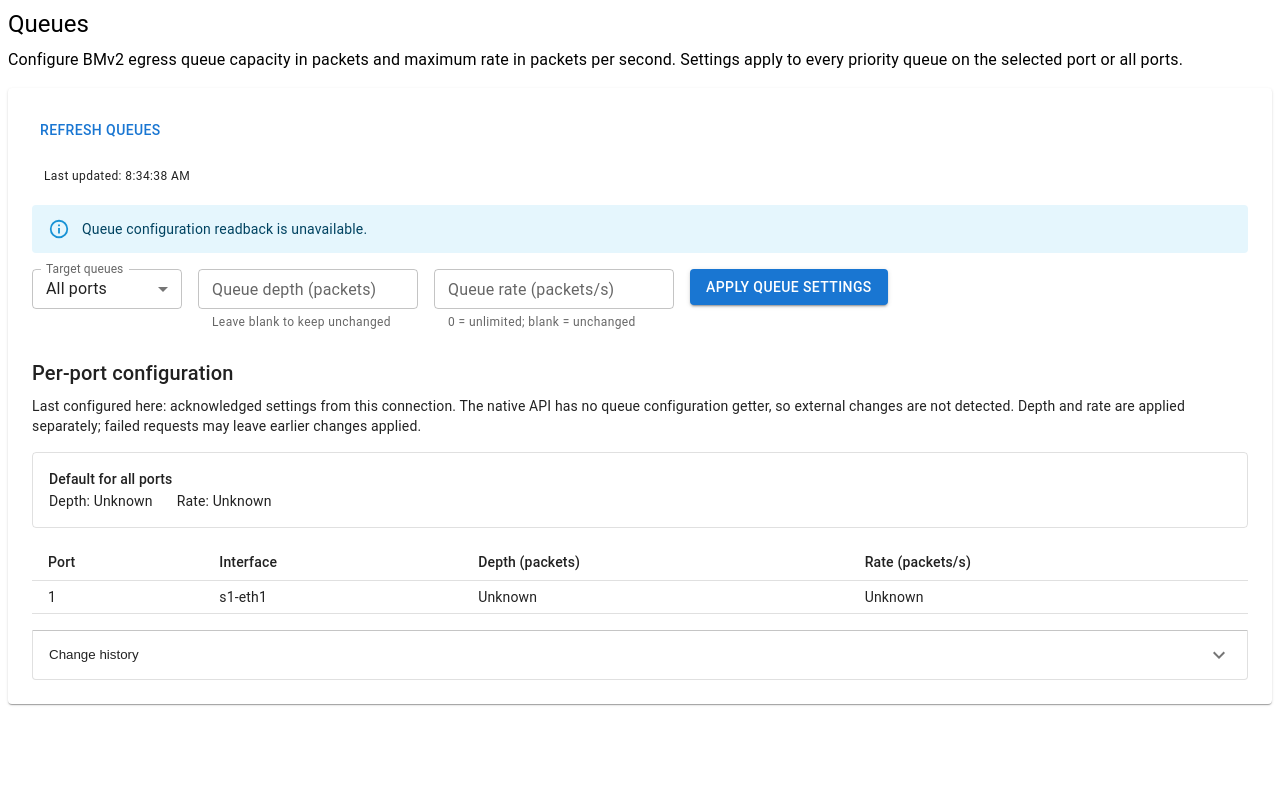
Test: queue controls › rejects invalid settings before making a write request
Expected: the text "Queue configuration readback is unavailable." is shown, [82,221,367,237]
In the field labelled "Queue depth (packets)": coordinates (308, 289) [198,269,418,309], type "0"
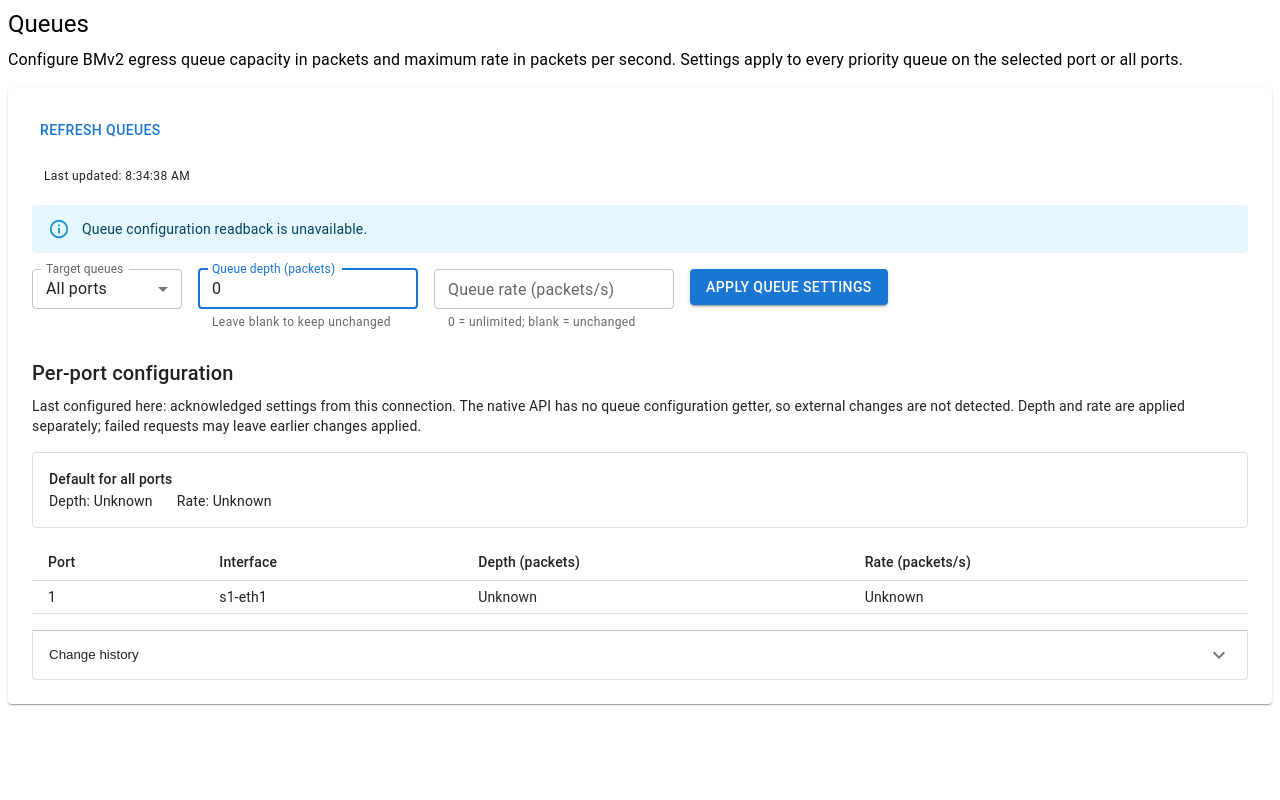
Click the button "Apply queue settings": coordinates (789, 287) [690,269,888,305]
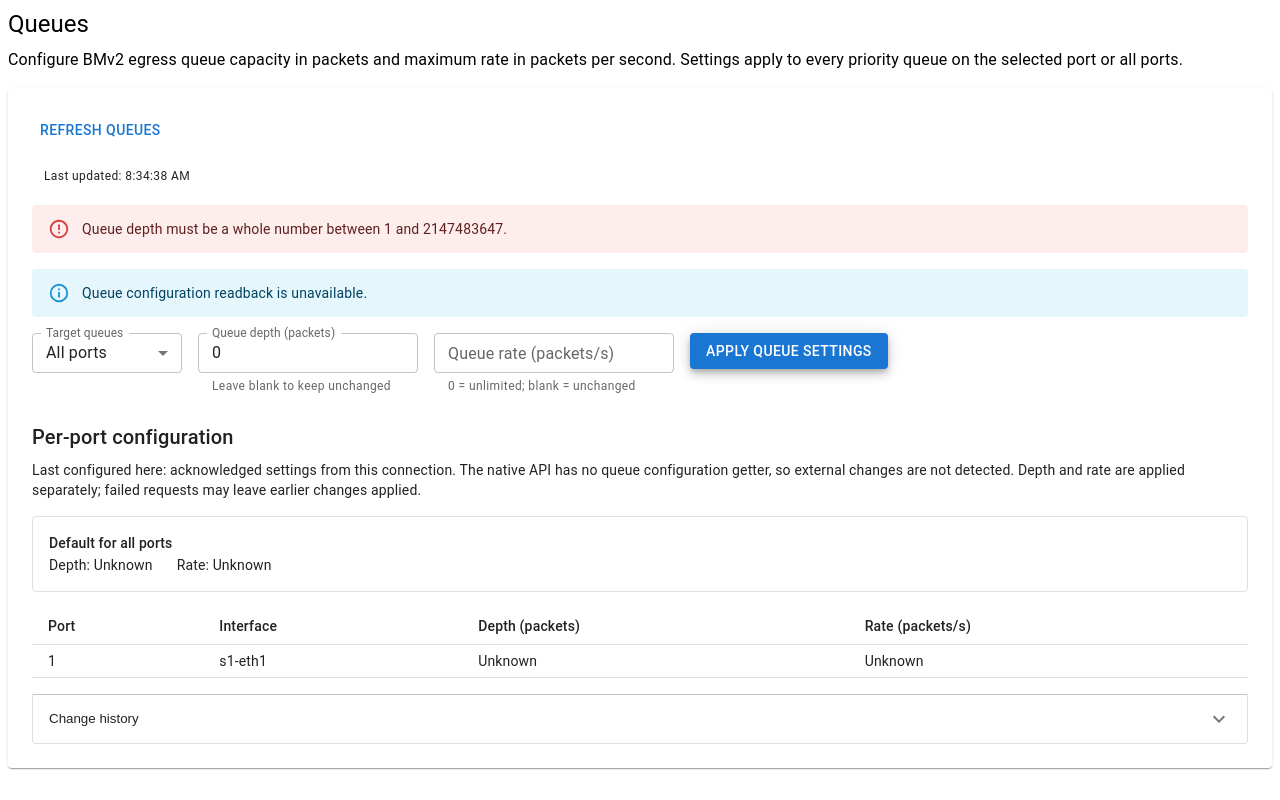
Expected: the text "Queue depth must be a whole number between 1 and 2147483647." is shown, [82,221,507,237]
